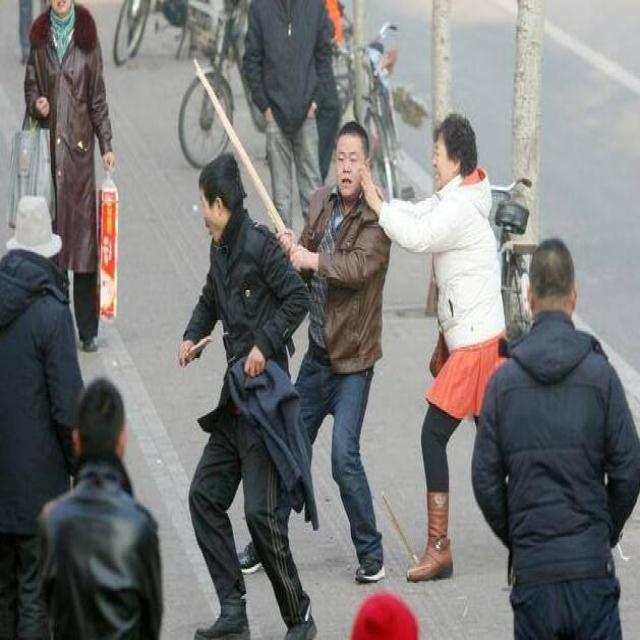fight: (295, 127, 504, 300)
nofight: (489, 245, 633, 640), (178, 160, 300, 582), (20, 0, 117, 342), (40, 388, 162, 640), (5, 204, 76, 506)
